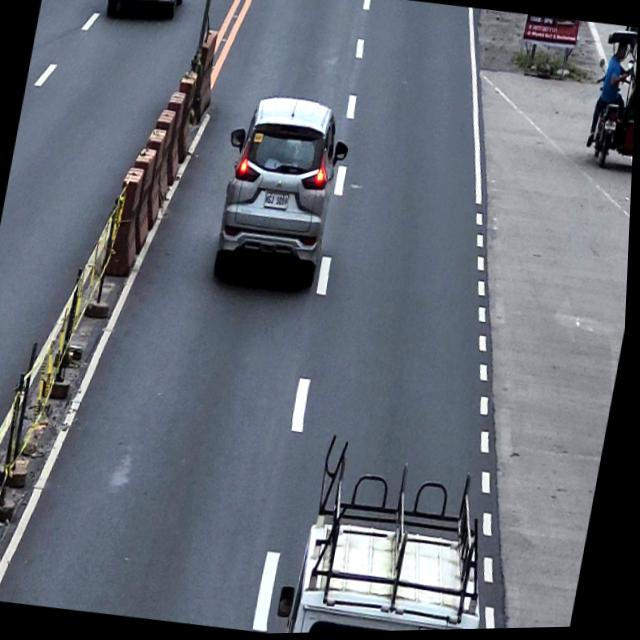Car: (279, 430, 517, 635), (207, 89, 358, 289), (103, 0, 187, 26)
License-Plate: (263, 190, 292, 212), (604, 122, 619, 136)
Tricycle: (582, 29, 639, 178)
